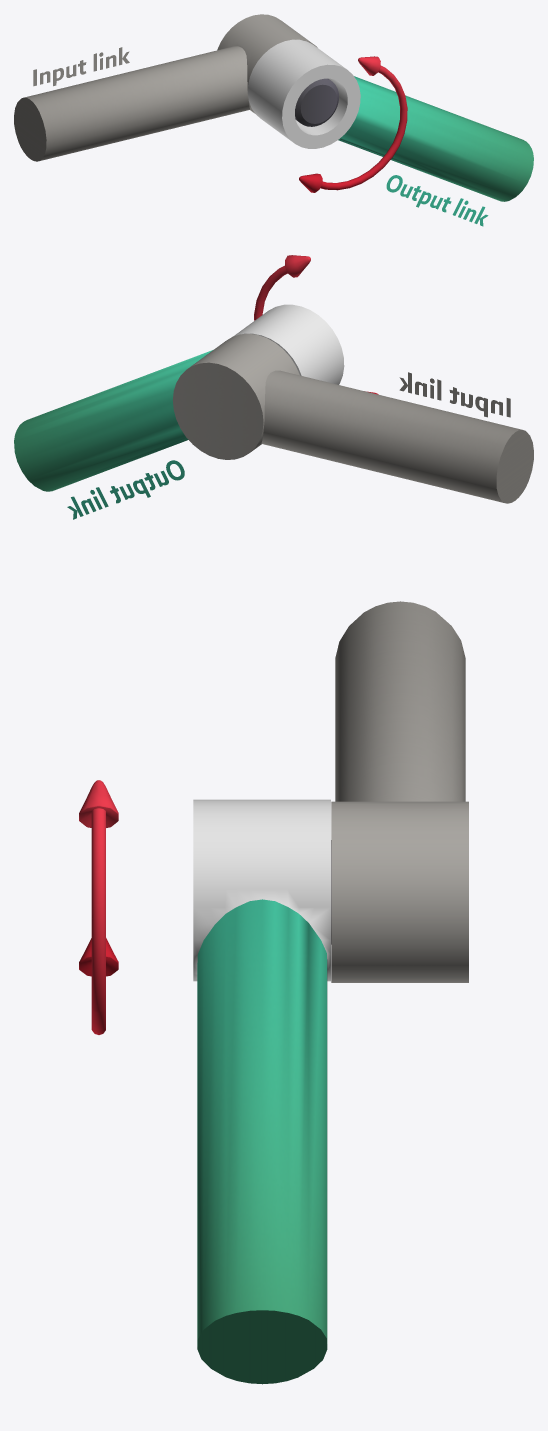
Rendered from RotationalJoint.fbx.
3 views of the same model, one above another, from view 1: azimuth 30°, elevation 25°; view 2: azimuth 150°, elevation 25°; view 3: azimuth 270°, elevation 25° (orthographic). The views are drawn at different scales.
Parts seen in each view (by area): view 1: RotationalJointOutputLink1, RotationalJointInputLink1; view 2: RotationalJointInputLink1, RotationalJointOutputLink1; view 3: RotationalJointOutputLink1, RotationalJointInputLink1.
Boxes of the visible parts, x1=… form: RotationalJointOutputLink1: x1=247, y1=39, x2=533, y2=226; RotationalJointInputLink1: x1=14, y1=14, x2=338, y2=161; RotationalJointInputLink1: x1=172, y1=333, x2=533, y2=503; RotationalJointOutputLink1: x1=14, y1=255, x2=378, y2=519; RotationalJointOutputLink1: x1=79, y1=780, x2=330, y2=1384; RotationalJointInputLink1: x1=331, y1=601, x2=468, y2=982.
Bounding box in the file's own units: 170 × 83.95 × 62.21.
